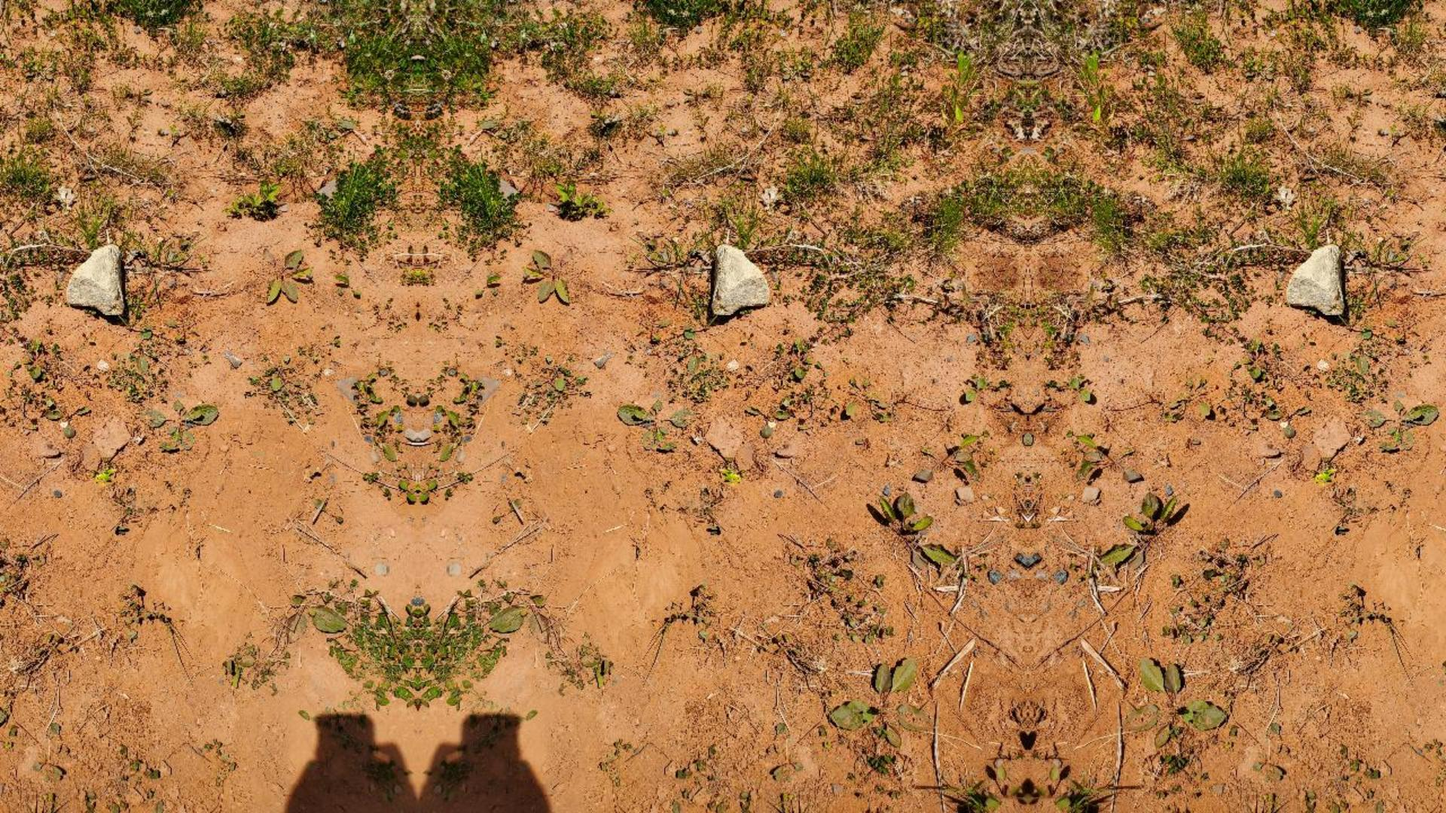rock: (709, 244, 768, 317), (1286, 244, 1344, 316), (67, 243, 124, 316)
